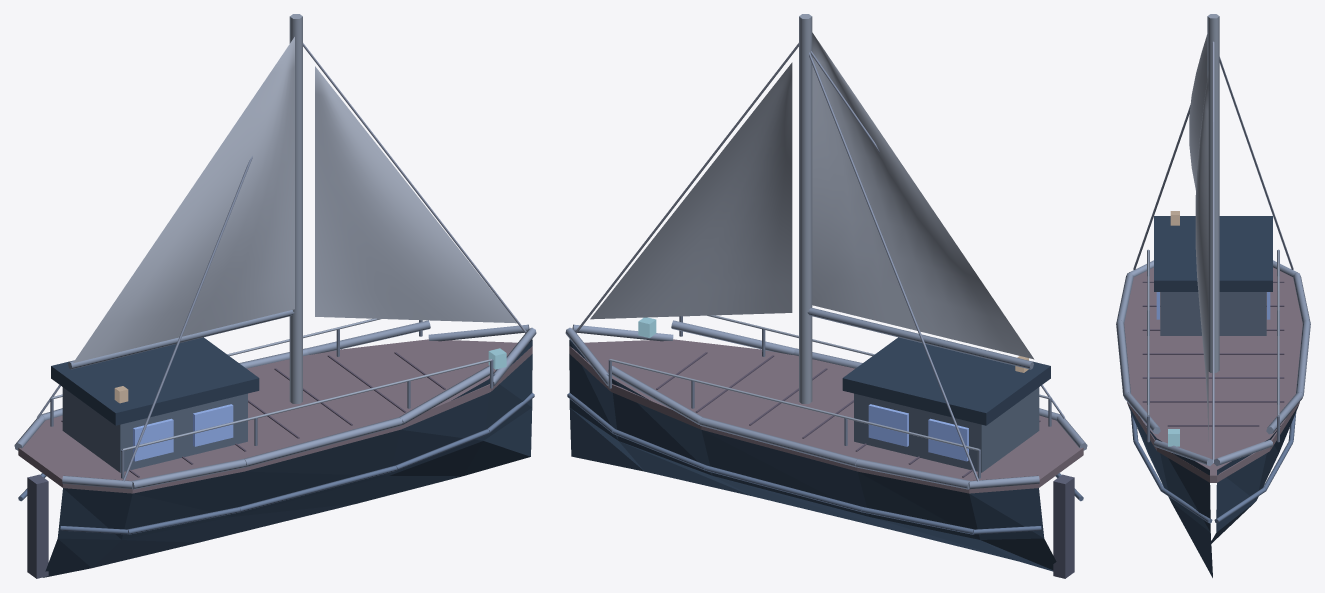
Rendered from lumen-sailer.glb.
3 renders of one model, left to right at view 1: azimuth 30°, elevation 25°; view 2: azimuth 150°, elevation 25°; view 3: azimuth 270°, elevation 25°, orthographic. The views are drawn at different scales.
Visible parts, largest first — view 1: Hull_Deck_and_Cabin, Main_Sail, Jib_Sail; view 2: Hull_Deck_and_Cabin, Main_Sail, Jib_Sail; view 3: Hull_Deck_and_Cabin, Jib_Sail, Main_Sail.
Boxes of the visible parts, <box> form: Hull_Deck_and_Cabin: <box>14,14,536,578</box>; Main_Sail: <box>73,37,294,363</box>; Jib_Sail: <box>315,66,516,323</box>; Hull_Deck_and_Cabin: <box>565,14,1087,578</box>; Main_Sail: <box>812,32,1034,359</box>; Jib_Sail: <box>590,62,792,319</box>; Hull_Deck_and_Cabin: <box>1116,14,1310,577</box>; Jib_Sail: <box>1195,71,1208,441</box>; Main_Sail: <box>1189,34,1207,189</box>.
Size of the model in its own units: 3.76 by 3.57 by 1.38.
